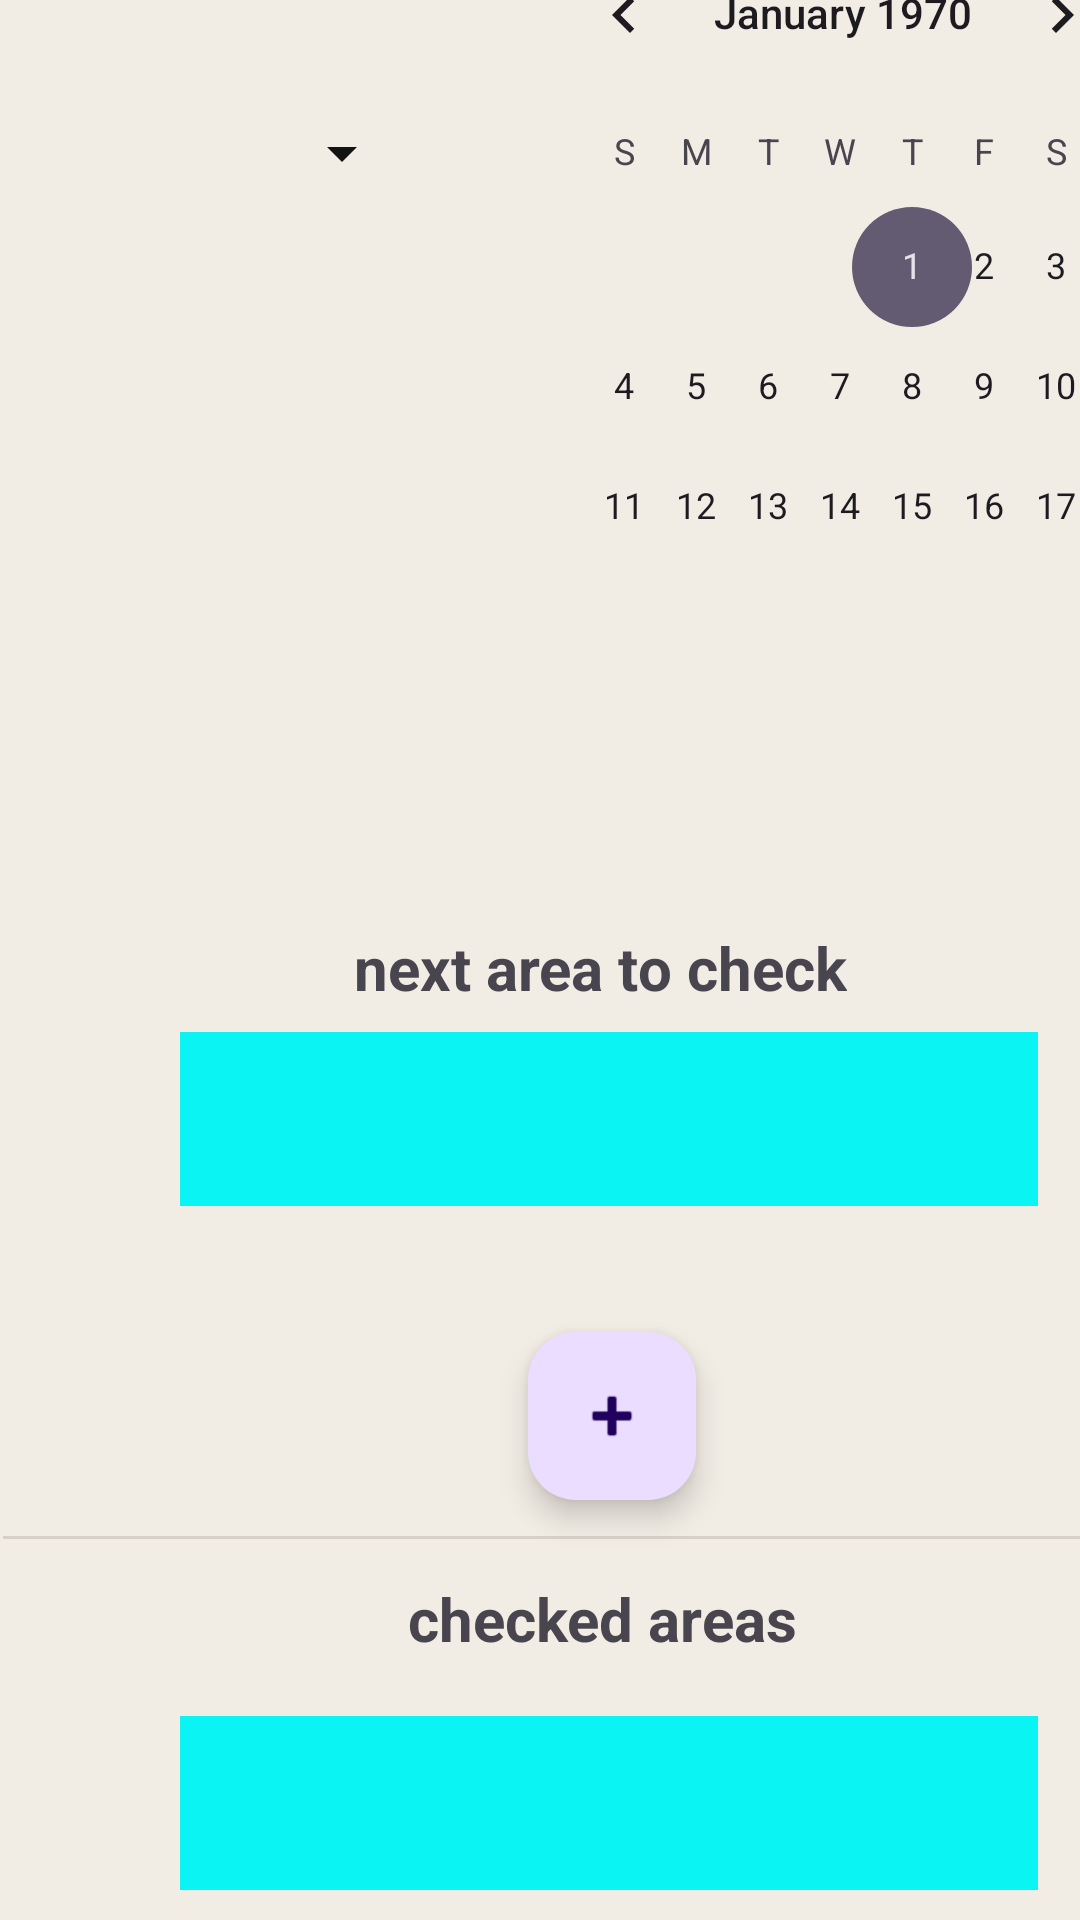

Named icons in this screenshot (1080px×1920px) and their bounding boxes, (x1, y1, x2, y2):
add: (528, 1332, 696, 1500)
